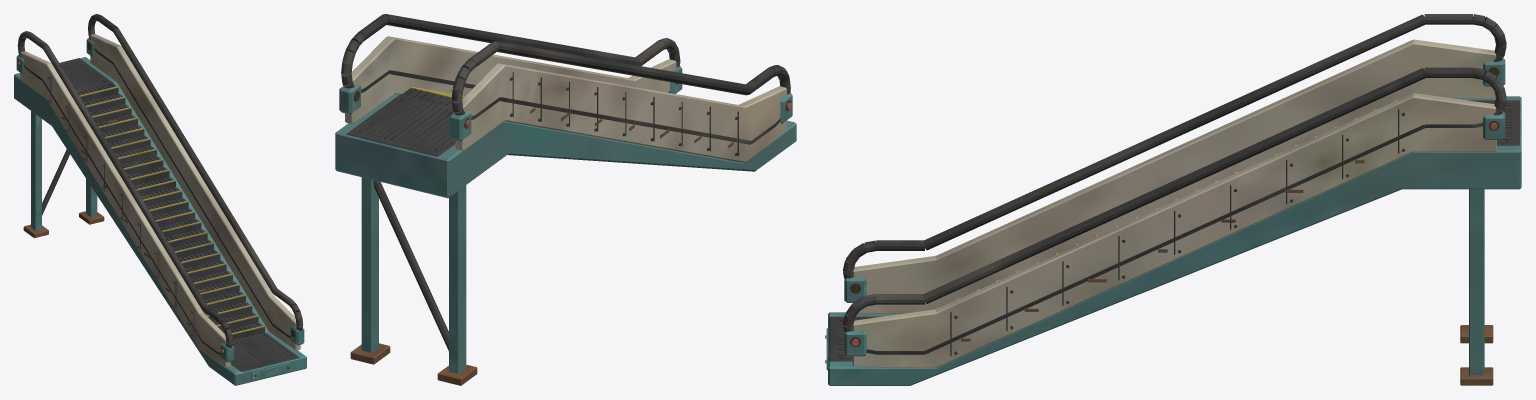
The model's file is R04_escalator.glb.
3 views of the same model, side by side, from view 1: azimuth 30°, elevation 25°; view 2: azimuth 150°, elevation 25°; view 3: azimuth 270°, elevation 25° (orthographic). The views are drawn at different scales.
Parts seen in each view (by area): view 1: Folded escalator undercarriage; view 2: Folded escalator undercarriage; view 3: Folded escalator undercarriage.
Boxes of the visible parts, box(x1,y1,x2,y2) form: Folded escalator undercarriage: box(14, 14, 306, 385); Folded escalator undercarriage: box(335, 14, 796, 385); Folded escalator undercarriage: box(825, 14, 1521, 385).
Size of the model in its own units: 2.1 by 5.04 by 10.
Materials: 8 (8 with a texture image).
